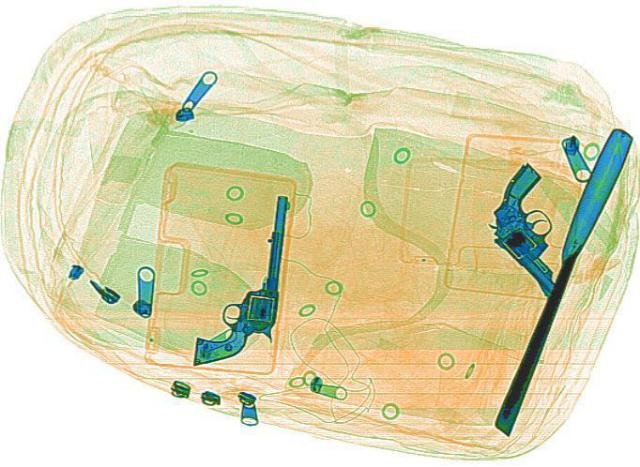Gun: (448, 161, 626, 298), (191, 190, 289, 367)
Knife: (484, 125, 636, 436)
